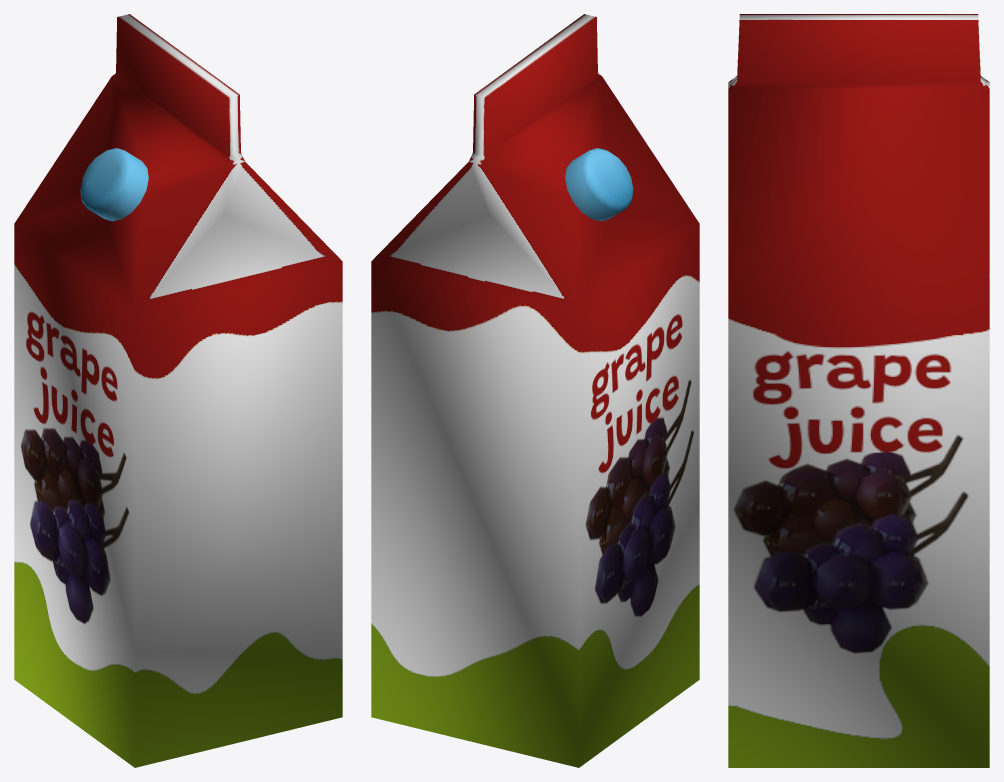
File: Grape_Juice.glb
3 renders of one model, left to right at view 1: azimuth 30°, elevation 25°; view 2: azimuth 150°, elevation 25°; view 3: azimuth 270°, elevation 25°, orthographic. The views are drawn at different scales.
Visible parts, largest first — view 1: Grape Juice, bouchon.008; view 2: Grape Juice, bouchon.008; view 3: Grape Juice.
Boxes of the visible parts, <box> form: Grape Juice: <box>14,14,342,767</box>; bouchon.008: <box>80,148,148,221</box>; Grape Juice: <box>371,14,699,767</box>; bouchon.008: <box>565,148,633,221</box>; Grape Juice: <box>728,14,989,767</box>.
Bounding box in the file's own units: 0.3434 × 1.01 × 0.3453.
2 materials, 2 textured.
